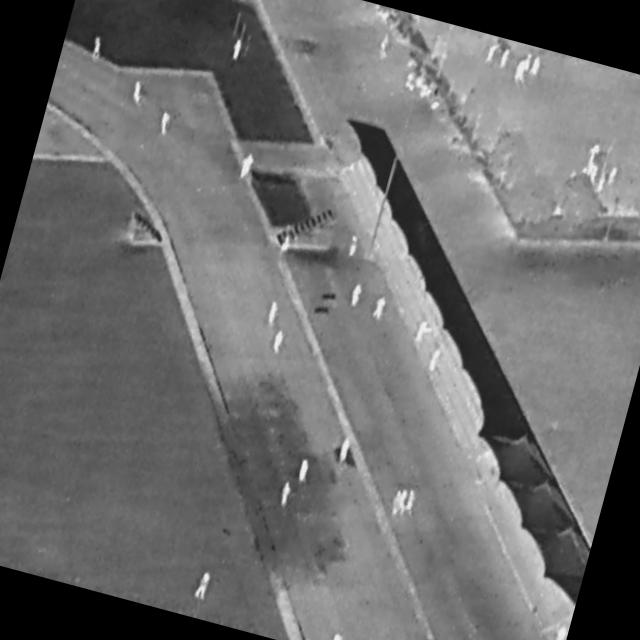person: (195, 571, 212, 602), (377, 34, 395, 63), (240, 153, 256, 181), (514, 59, 530, 86), (371, 296, 387, 323), (270, 328, 286, 355), (280, 480, 294, 510), (390, 489, 404, 517), (586, 143, 601, 169), (349, 284, 364, 310), (158, 111, 173, 137), (130, 80, 145, 106), (428, 349, 443, 375), (266, 301, 280, 328), (338, 438, 352, 465), (405, 489, 419, 515), (91, 36, 105, 61), (529, 55, 543, 79), (231, 38, 245, 62), (298, 459, 311, 484), (397, 489, 410, 514), (552, 623, 569, 640), (347, 237, 360, 259), (500, 49, 512, 71), (280, 236, 292, 258), (607, 167, 620, 187), (485, 46, 498, 66), (522, 53, 534, 74), (329, 632, 345, 640)
